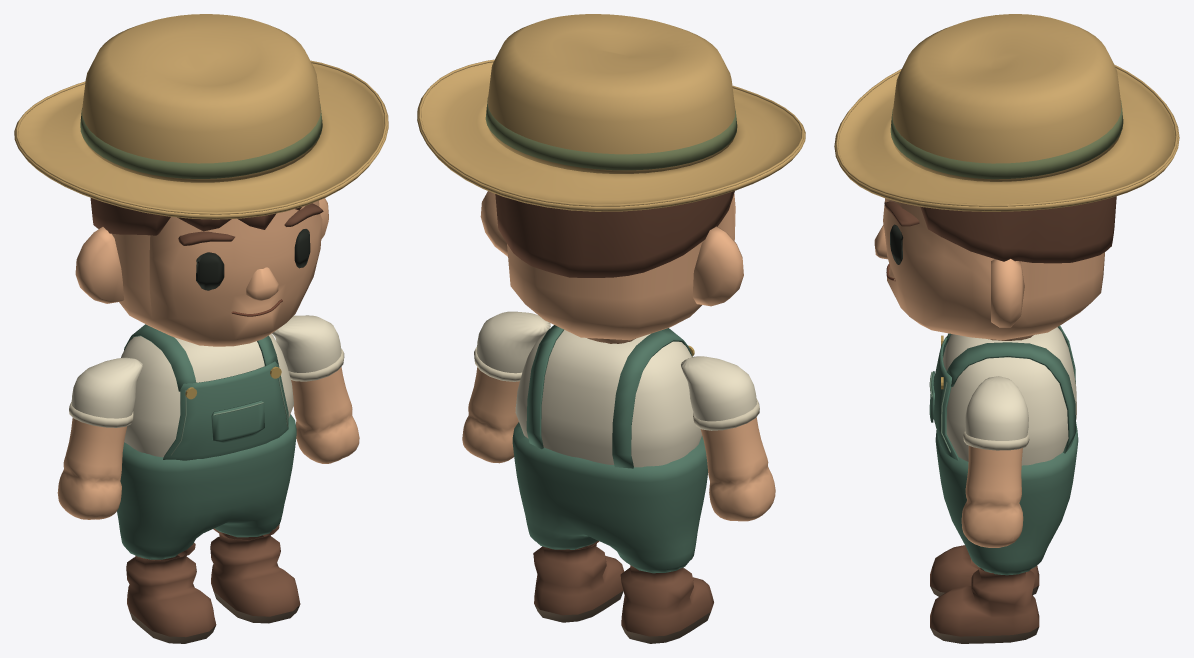
Rendered from gardener-v039.glb.
The picture shows the model from 3 angles, left to right: view 1: azimuth 30°, elevation 25°; view 2: azimuth 150°, elevation 25°; view 3: azimuth 270°, elevation 25°; orthographic projection. The views are drawn at different scales.
Parts seen in each view (by area): view 1: Straw crown • shaped shoulder and shallow top, Face and ears • adapted KayKit topology, Straw brim • cambered oval with rolled lip, Overalls • continuous waist seat crotch and legs, Shirt • shaped shoulder and torso mesh, Bib • fitted curved denim, Boot 1 • adapted KayKit mesh, Boot -1 • adapted KayKit mesh, Arm R • mirrored continuous forearm, Arm L • KayKit hand and continuous forearm, Hat ribbon • fitted olive band, Sleeve -1 (+9 smaller); view 2: Straw crown • shaped shoulder and shallow top, Straw brim • cambered oval with rolled lip, Overalls • continuous waist seat crotch and legs, Shirt • shaped shoulder and torso mesh, Face and ears • adapted KayKit topology, Hair • short tapered tousled cap, Boot 1 • adapted KayKit mesh, Boot -1 • adapted KayKit mesh, Arm R • mirrored continuous forearm, Hat ribbon • fitted olive band, Arm L • KayKit hand and continuous forearm, Sleeve -1 (+5 smaller); view 3: Straw crown • shaped shoulder and shallow top, Straw brim • cambered oval with rolled lip, Face and ears • adapted KayKit topology, Hair • short tapered tousled cap, Shirt • shaped shoulder and torso mesh, Overalls • continuous waist seat crotch and legs, Boot 1 • adapted KayKit mesh, Arm L • KayKit hand and continuous forearm, Hat ribbon • fitted olive band, Sleeve 1, Shoulder strap 1, Boot -1 • adapted KayKit mesh (+3 smaller).
Boxes of the visible parts, left/top/right/bottom form: Straw crown • shaped shoulder and shallow top: left=82, top=14, right=320, bottom=182; Face and ears • adapted KayKit topology: left=75, top=198, right=328, bottom=346; Straw brim • cambered oval with rolled lip: left=14, top=63, right=388, bottom=219; Overalls • continuous waist seat crotch and legs: left=117, top=414, right=296, bottom=559; Shirt • shaped shoulder and torso mesh: left=121, top=334, right=293, bottom=457; Bib • fitted curved denim: left=163, top=361, right=288, bottom=460; Boot 1 • adapted KayKit mesh: left=210, top=524, right=300, bottom=623; Boot -1 • adapted KayKit mesh: left=126, top=543, right=216, bottom=643; Arm R • mirrored continuous forearm: left=57, top=418, right=127, bottom=519; Arm L • KayKit hand and continuous forearm: left=291, top=367, right=359, bottom=463; Hat ribbon • fitted olive band: left=80, top=104, right=322, bottom=178; Sleeve -1: left=71, top=357, right=142, bottom=418; Straw crown • shaped shoulder and shallow top: left=487, top=14, right=735, bottom=173; Straw brim • cambered oval with rolled lip: left=417, top=62, right=805, bottom=211; Overalls • continuous waist seat crotch and legs: left=512, top=422, right=707, bottom=573; Shirt • shaped shoulder and torso mesh: left=515, top=330, right=702, bottom=467; Face and ears • adapted KayKit topology: left=480, top=191, right=743, bottom=340; Hair • short tapered tousled cap: left=495, top=191, right=734, bottom=277; Boot 1 • adapted KayKit mesh: left=533, top=540, right=624, bottom=622; Boot -1 • adapted KayKit mesh: left=620, top=565, right=713, bottom=643; Arm R • mirrored continuous forearm: left=700, top=417, right=775, bottom=521; Hat ribbon • fitted olive band: left=485, top=98, right=737, bottom=170; Arm L • KayKit hand and continuous forearm: left=462, top=367, right=519, bottom=463; Sleeve -1: left=681, top=356, right=756, bottom=421; Straw crown • shaped shoulder and shallow top: left=892, top=14, right=1121, bottom=181; Straw brim • cambered oval with rolled lip: left=834, top=68, right=1179, bottom=211; Face and ears • adapted KayKit topology: left=874, top=198, right=1104, bottom=340; Hair • short tapered tousled cap: left=920, top=196, right=1116, bottom=263; Shirt • shaped shoulder and torso mesh: left=943, top=327, right=1076, bottom=465; Overalls • continuous waist seat crotch and legs: left=935, top=422, right=1078, bottom=575; Boot 1 • adapted KayKit mesh: left=930, top=559, right=1039, bottom=643; Arm L • KayKit hand and continuous forearm: left=961, top=445, right=1023, bottom=547; Hat ribbon • fitted olive band: left=890, top=100, right=1123, bottom=179; Sleeve 1: left=965, top=376, right=1028, bottom=440; Shoulder strap 1: left=946, top=342, right=1076, bottom=453; Boot -1 • adapted KayKit mesh: left=930, top=545, right=1039, bottom=596.
Size of the model in its own units: 1.46 by 2.31 by 1.3.
